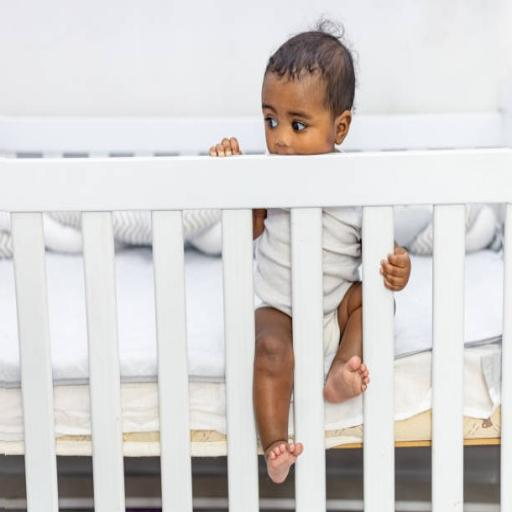baby: (254, 209, 303, 483)
crib: (0, 113, 511, 511)
